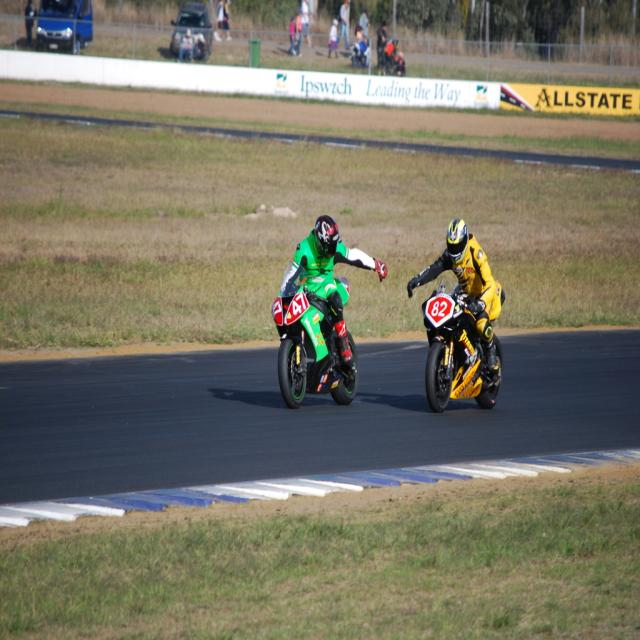Motorbikes: (268, 218, 368, 416), (420, 219, 506, 412)
